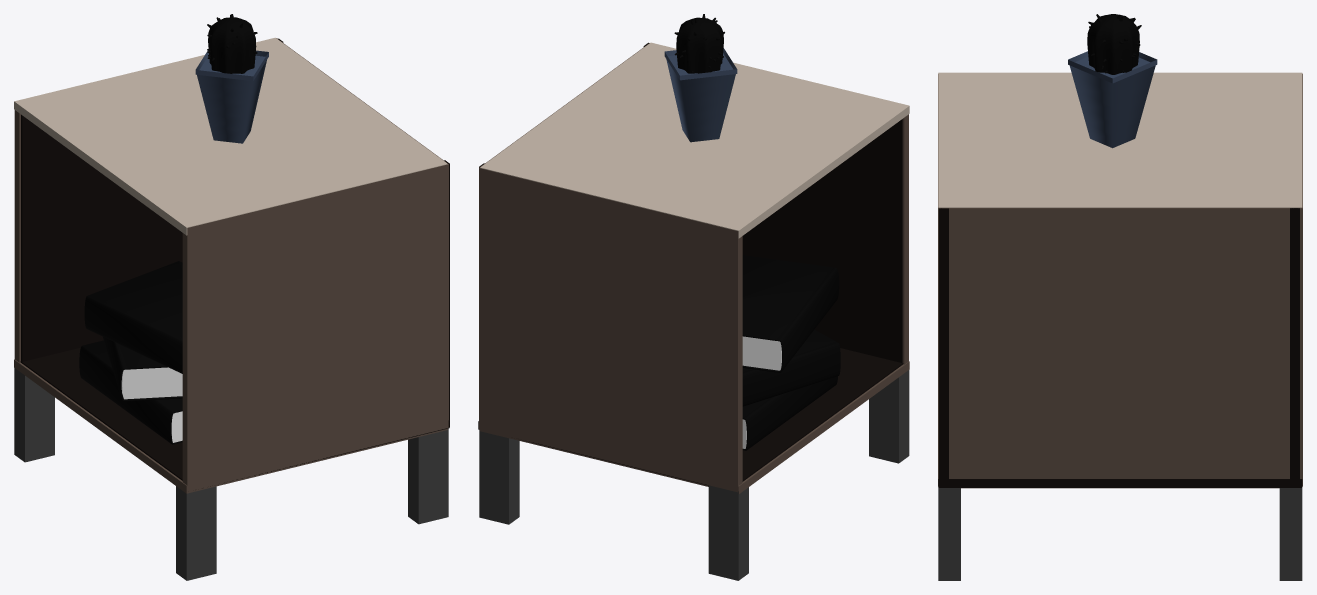
The model's file is furniture.obj.
3 views of the same model, side by side, from view 1: azimuth 30°, elevation 25°; view 2: azimuth 150°, elevation 25°; view 3: azimuth 270°, elevation 25° (orthographic). The views are drawn at different scales.
Visible parts, largest first — view 1: polySurface2012; view 2: polySurface2012; view 3: polySurface2012.
Part boxes in pixels (x1,y1,x2,y2): polySurface2012: [14, 14, 449, 580]; polySurface2012: [478, 14, 909, 580]; polySurface2012: [938, 14, 1302, 580].
Bounding box in the file's own units: 0.7849 × 1.34 × 0.8908.
